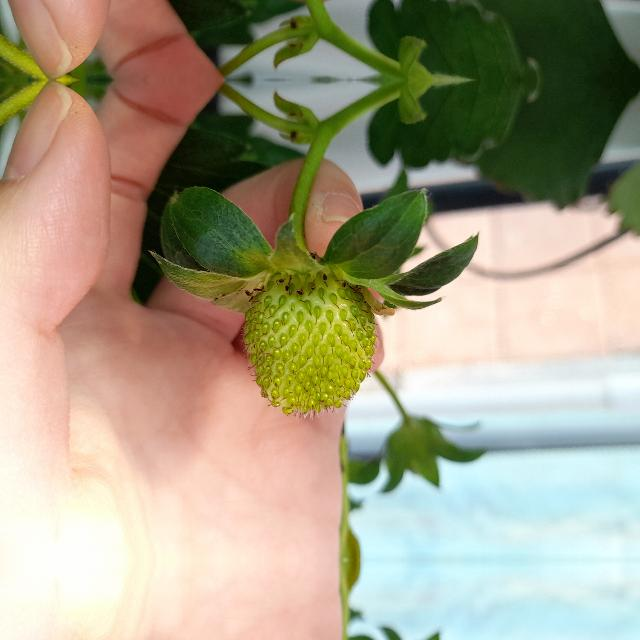Health_25: (243, 272, 377, 416)
